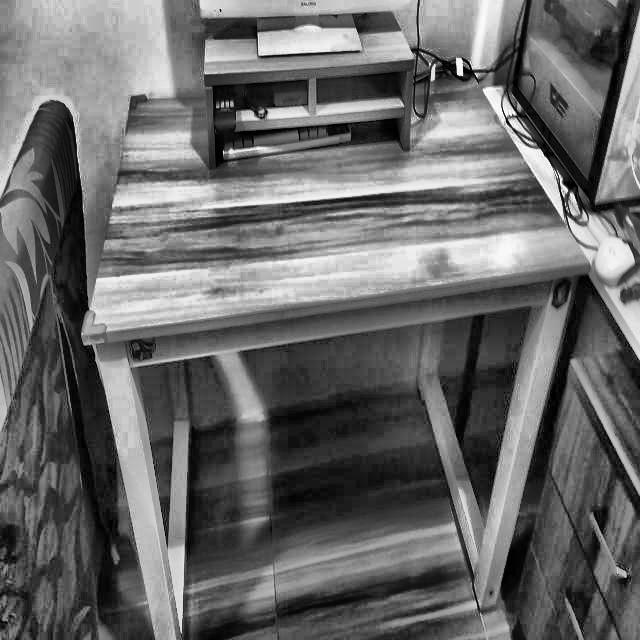mesa: (98, 87, 568, 640)
